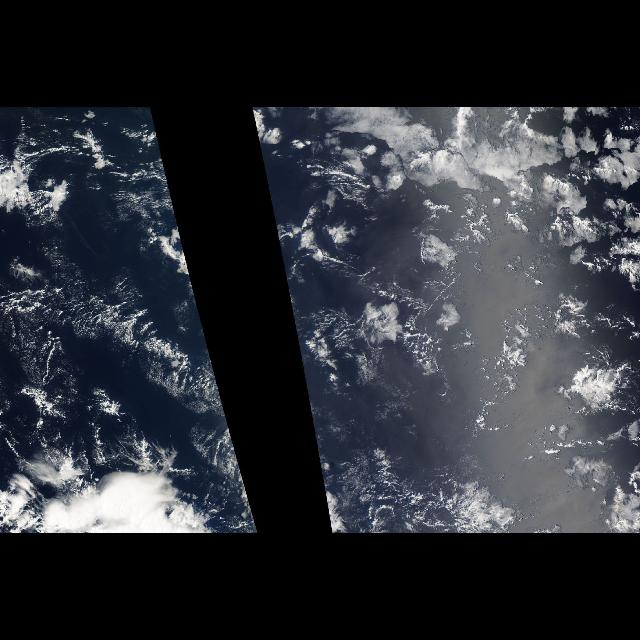Flower: (299, 116, 637, 528)
